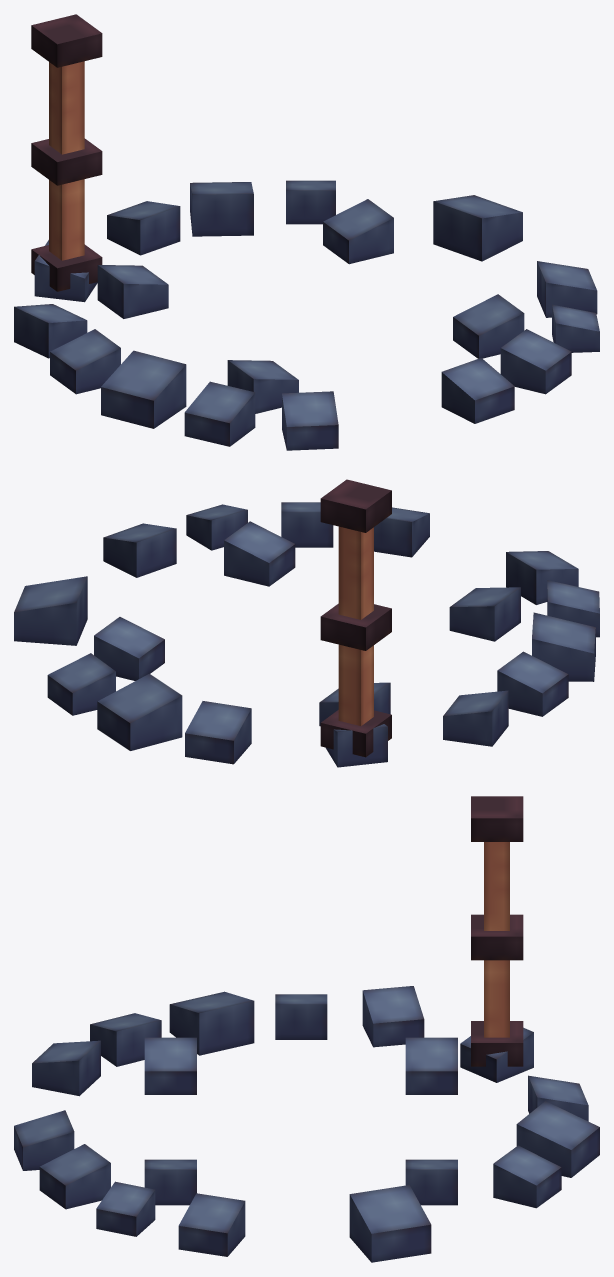
File: exit_level_decor.fbx
3 renders of one model, top to bottom at view 1: azimuth 30°, elevation 25°; view 2: azimuth 150°, elevation 25°; view 3: azimuth 270°, elevation 25°, orthographic.
Parts seen in each view (by area): view 1: Cube.083; view 2: Cube.083; view 3: Cube.083.
Boxes of the visible parts, left/top/right/bottom form: Cube.083: left=14, top=14, right=599, bottom=450; Cube.083: left=14, top=479, right=599, bottom=767; Cube.083: left=14, top=796, right=599, bottom=1262.
Size of the model in its own units: 440 by 222 by 449.
